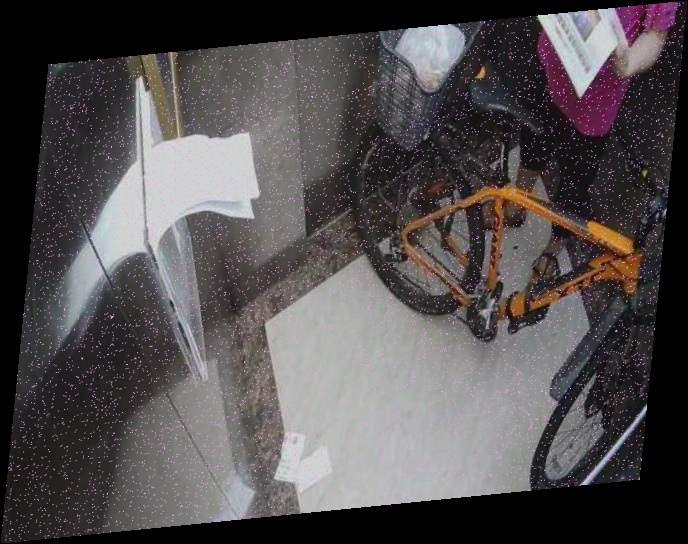bicycle: (349, 86, 651, 483)
person: (477, 1, 687, 315)
